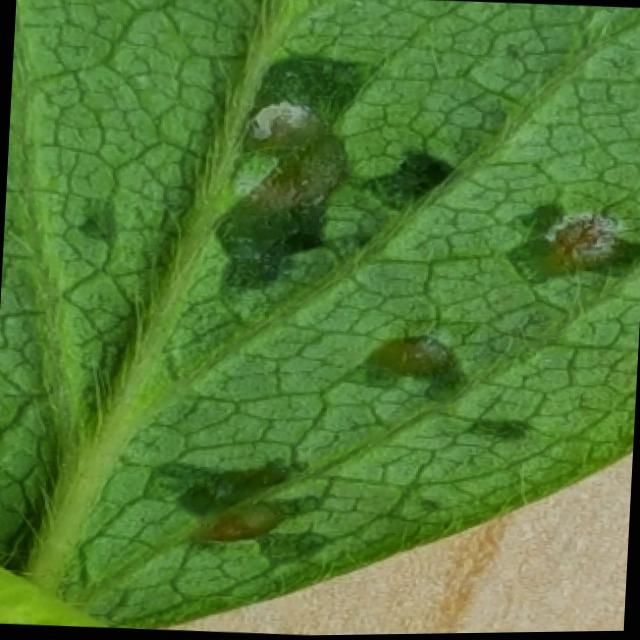Angular Leafspot: (1, 29, 640, 577)
